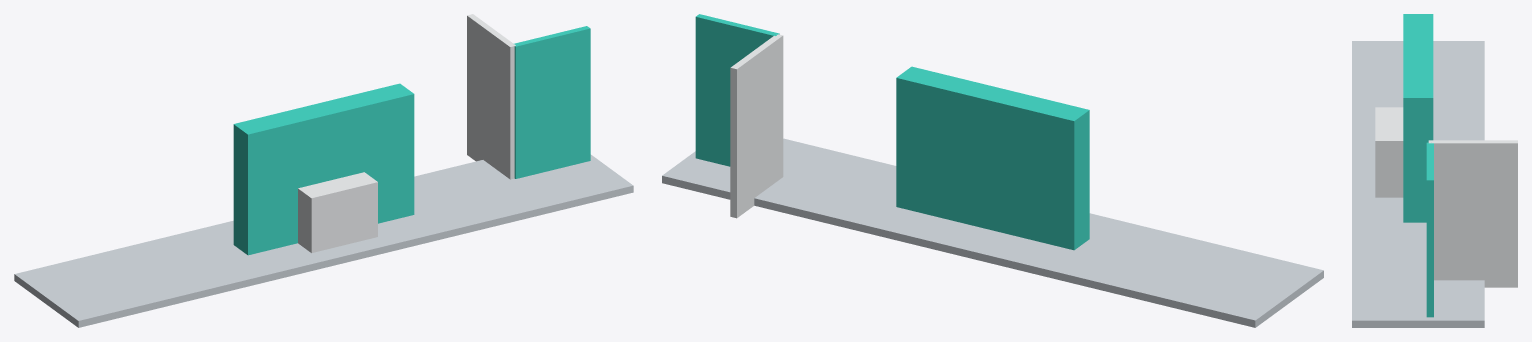
3 views of the same model, side by side, from view 1: azimuth 30°, elevation 25°; view 2: azimuth 150°, elevation 25°; view 3: azimuth 270°, elevation 25° (orthographic). The views are drawn at different scales.
Parts seen in each view (by area): view 1: Exhibition Booth Concept; view 2: Exhibition Booth Concept; view 3: Exhibition Booth Concept.
Boxes of the visible parts, x1,y1,x2,y2 form: Exhibition Booth Concept: (14, 14, 633, 327); Exhibition Booth Concept: (662, 14, 1323, 327); Exhibition Booth Concept: (1352, 14, 1517, 327).
Bounding box in the file's own units: 10 × 2.4 × 2.5.
